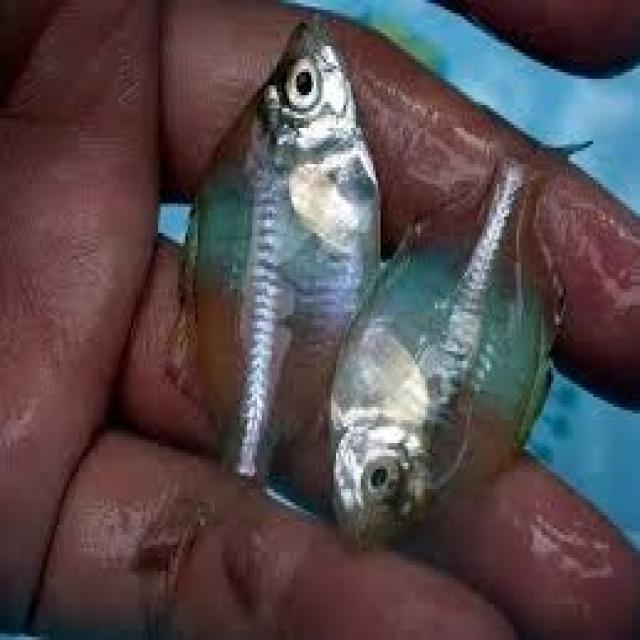Glass-Perchlet: (335, 43, 577, 576), (169, 18, 372, 535)
